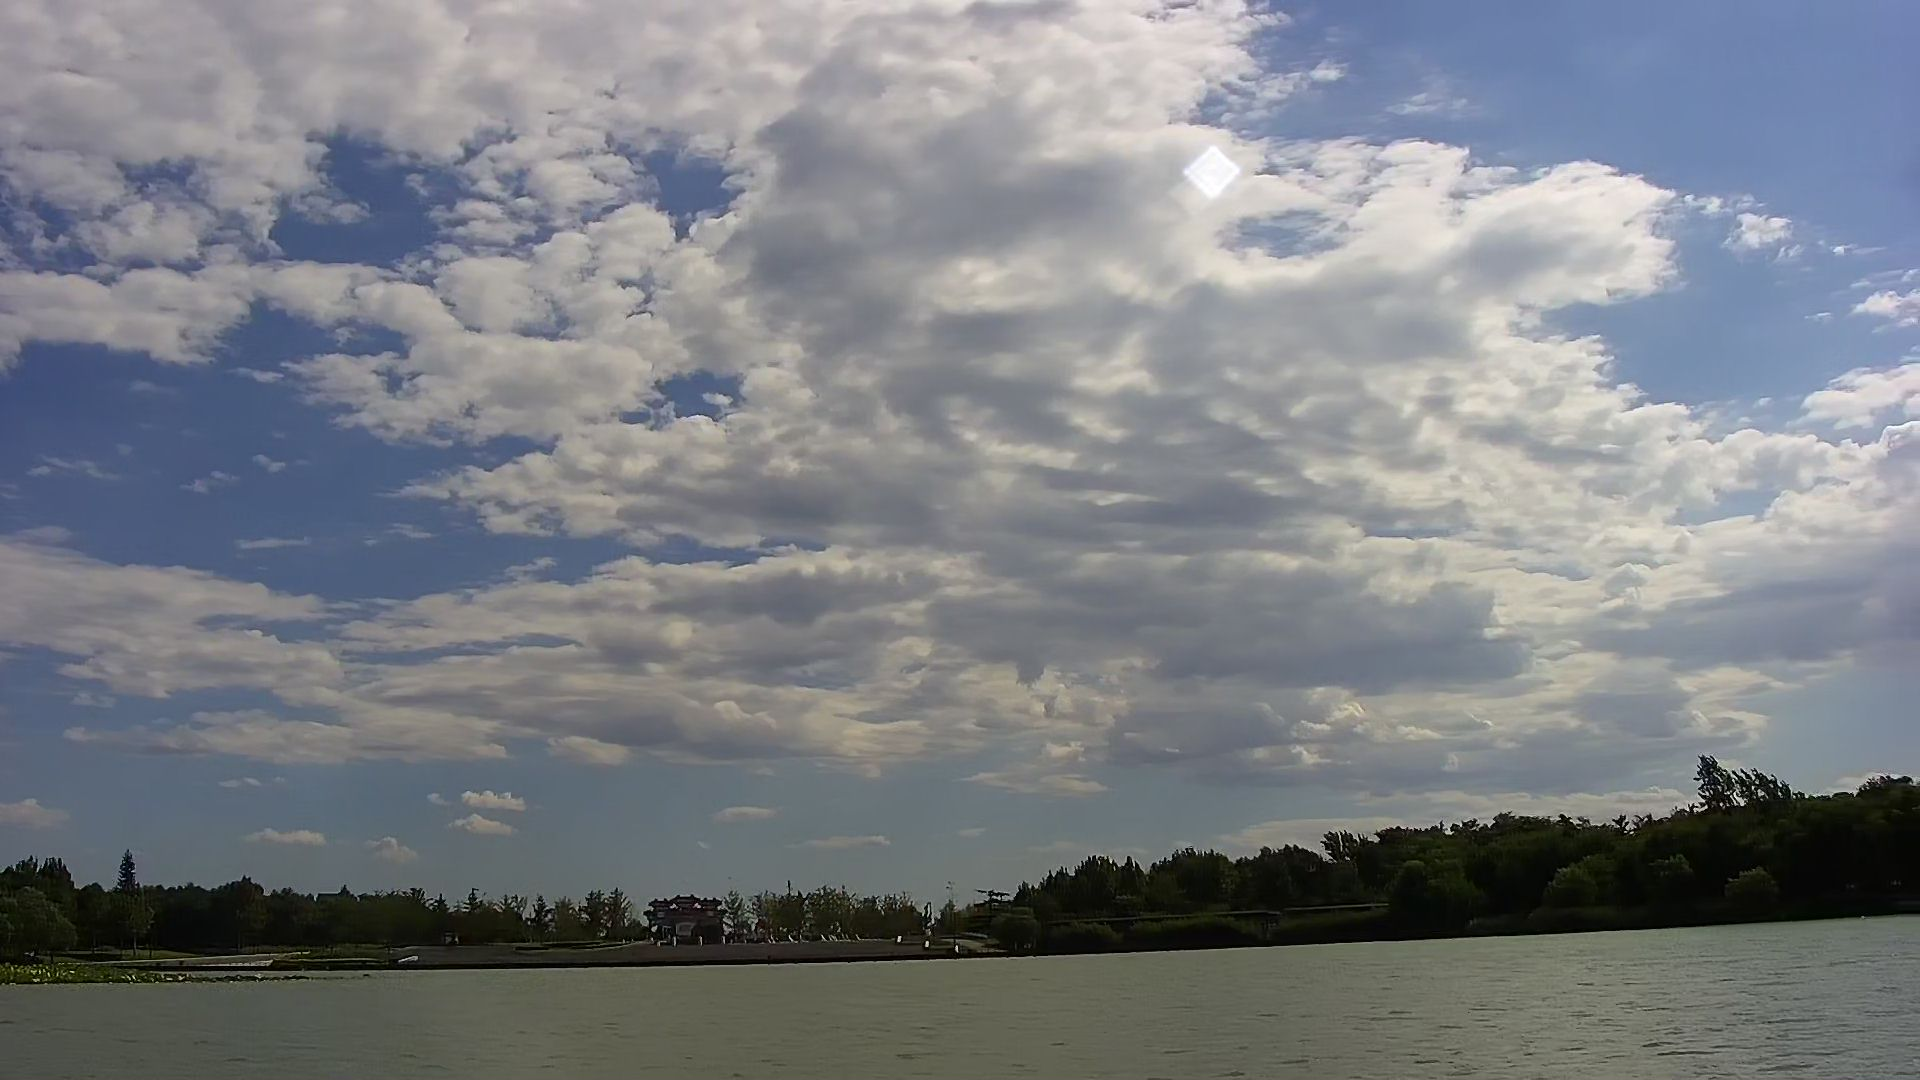harbor: (433, 936, 1007, 973)
